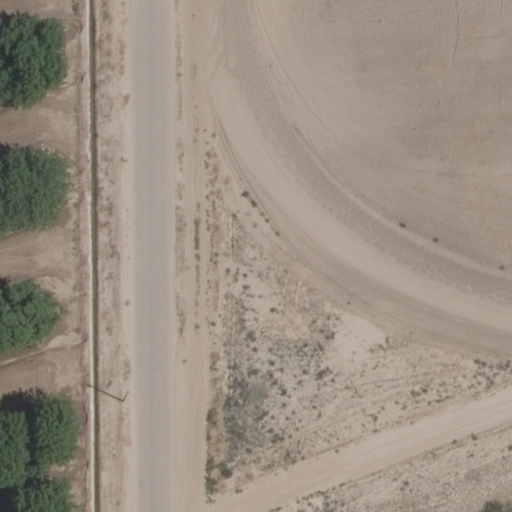DT: (116, 386, 136, 406)
